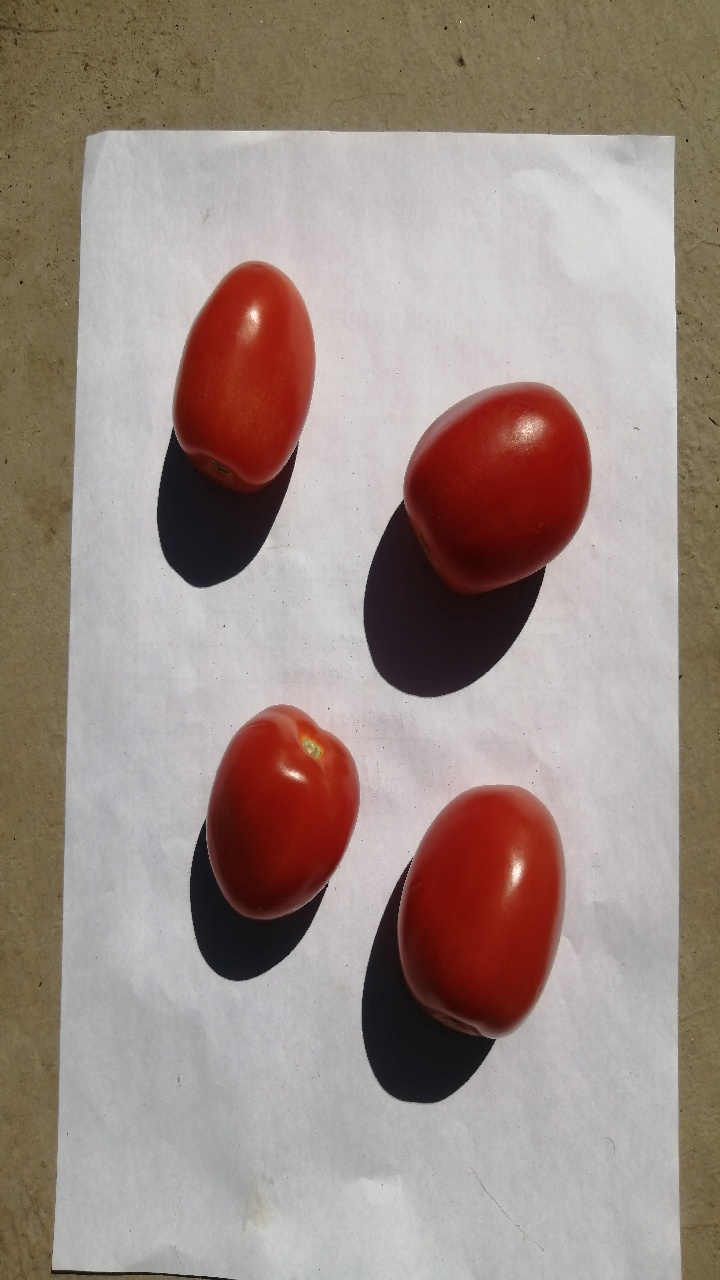tomateRojo: (381, 769, 588, 1068), (389, 342, 608, 611), (183, 692, 377, 962), (151, 246, 337, 503)
